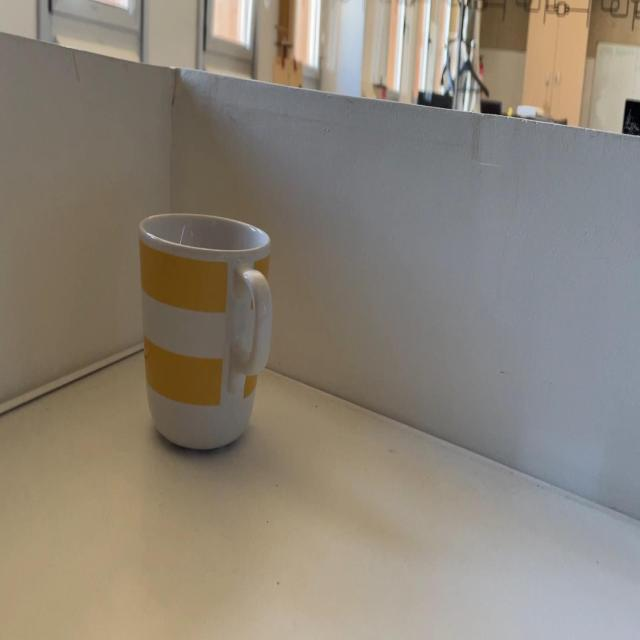cup: (138, 210, 271, 457)
